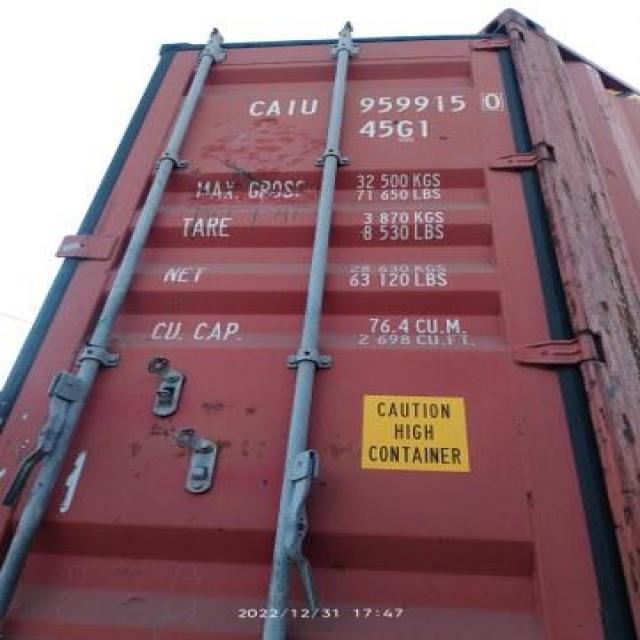container_number_h: (211, 68, 518, 170)
